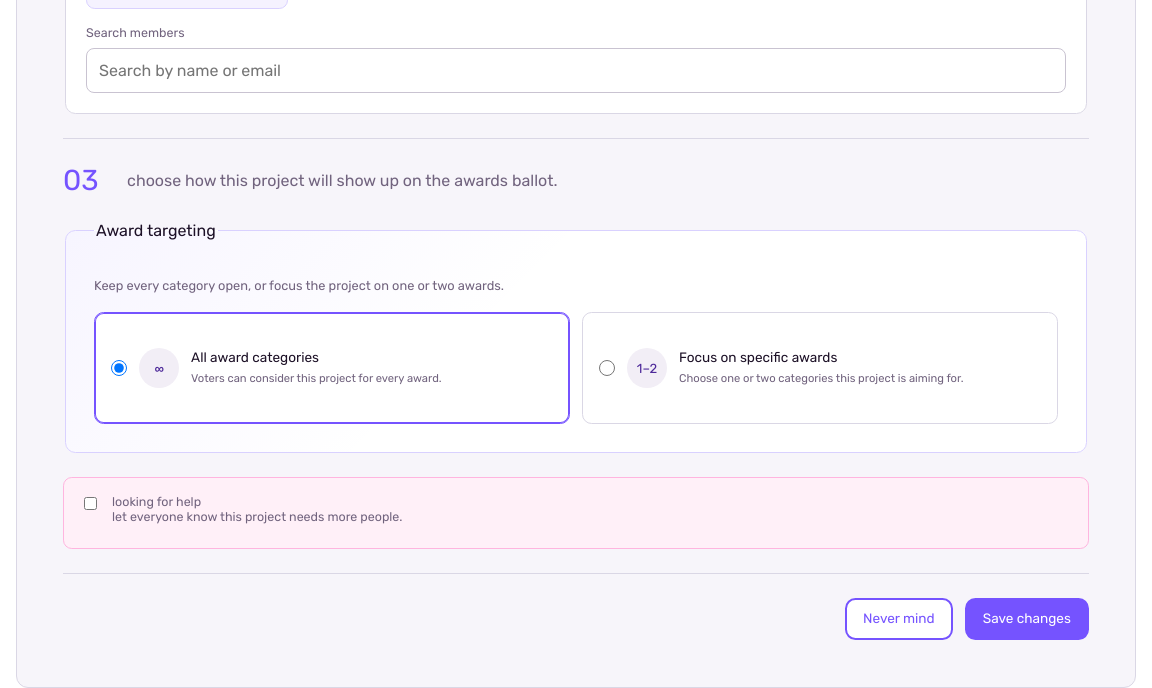
ProjectForm award targeting › allows one or two focused categories in selection order and prevents a third
(page scrolled)
Click the radio button labelled "Focus on specific awards": (607,368) [599,360,615,376]
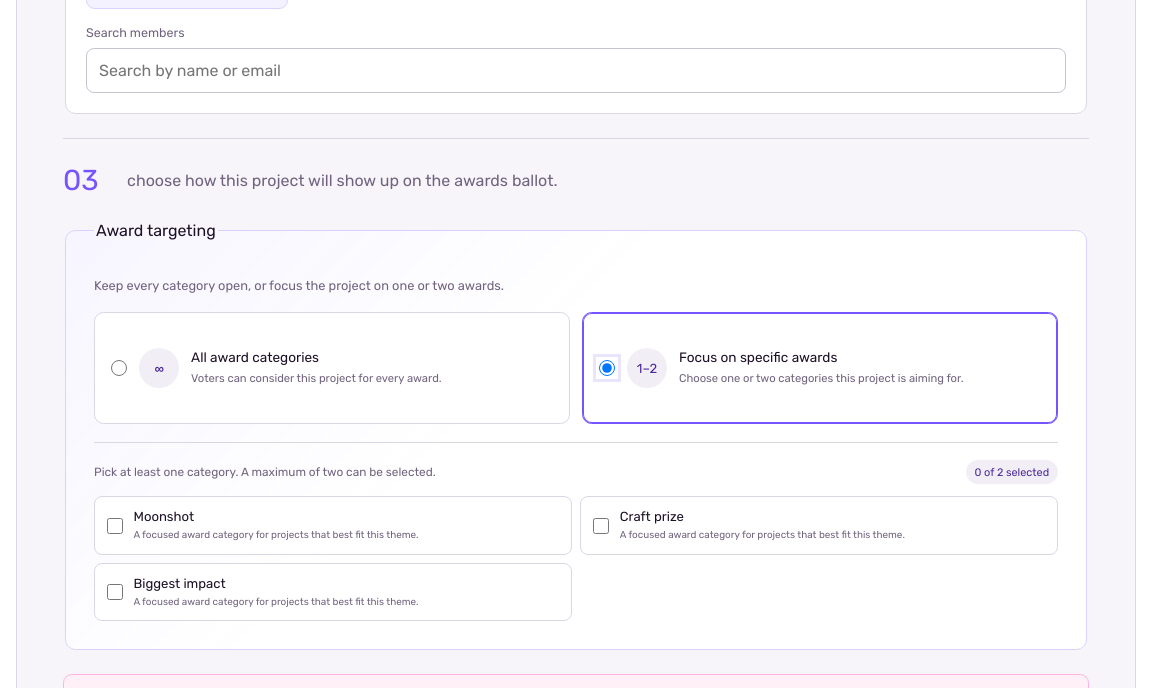
Click the checkbox labelled "Craft prize": (601,526) [593,518,609,534]
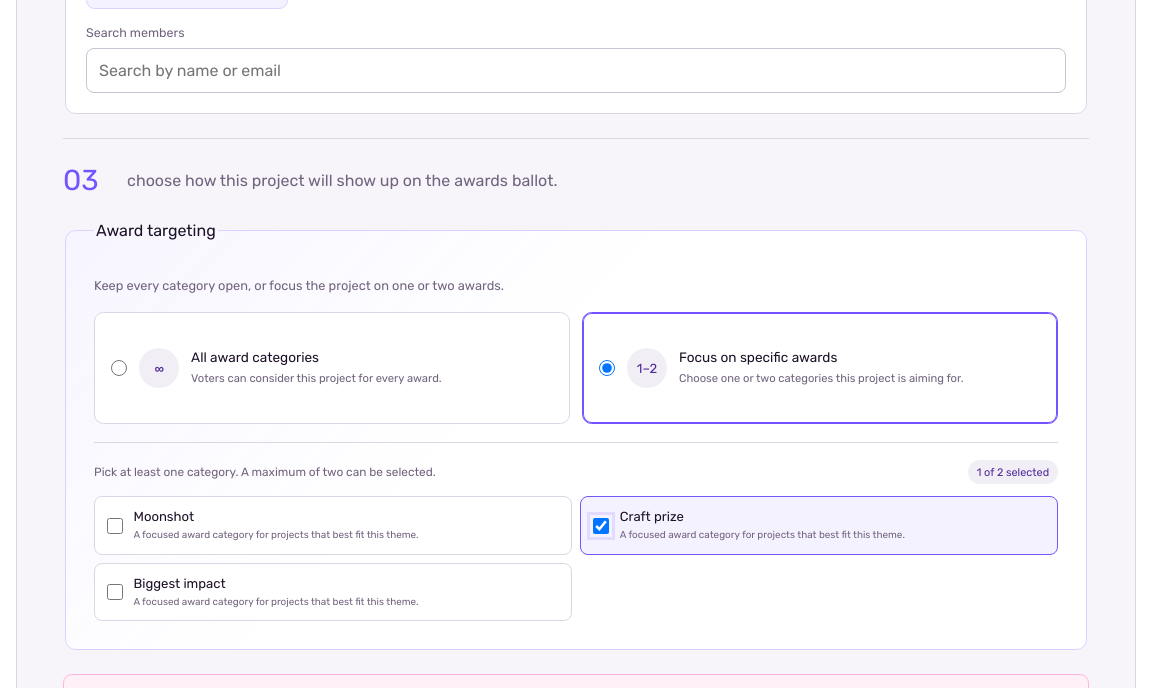
Click the checkbox labelled "Biggest impact": (115,592) [107,584,123,600]
(page scrolled)
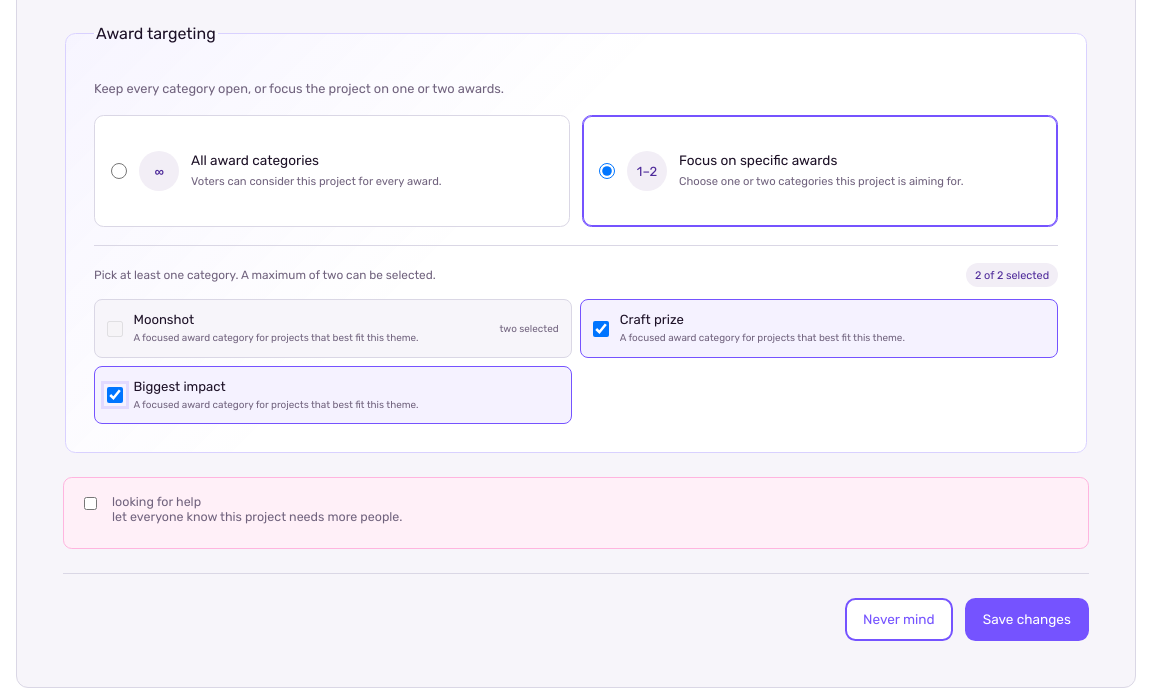
Expected: the text "2 of 2 selected" is shown, [966,263,1058,288]
Expected: the checkbox labelled "Moonshot" is disabled, [107,320,123,336]
Click the button "Save changes": (1027,620) [965,598,1089,641]
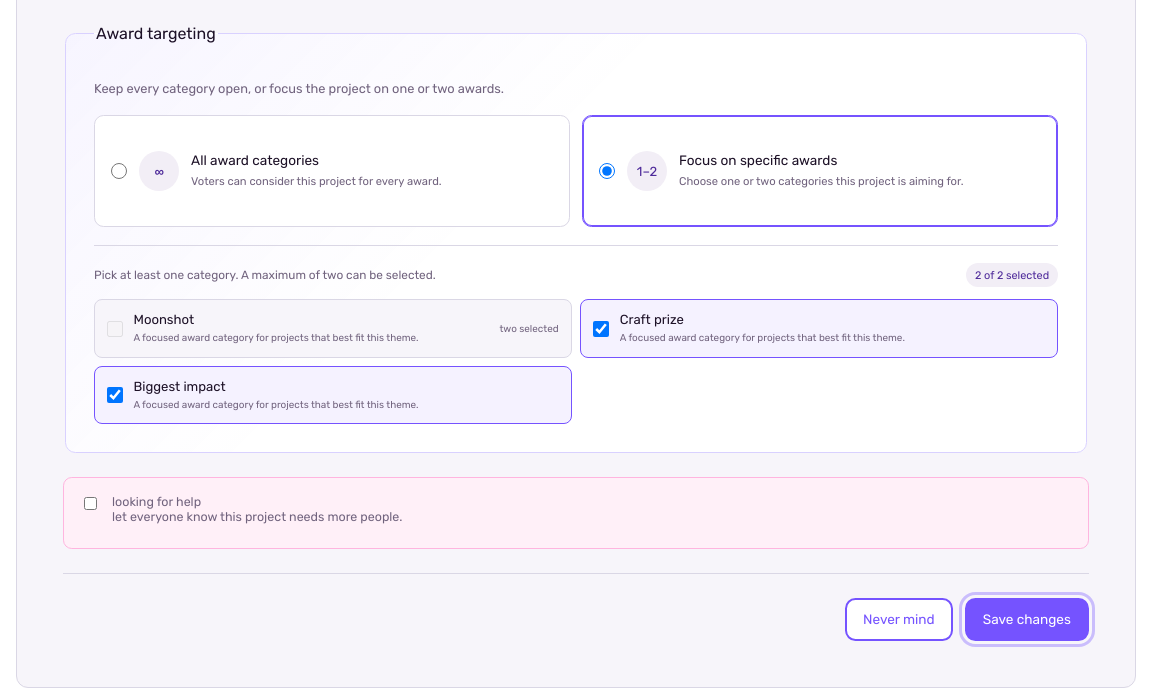
Click the checkbox labelled "Craft prize": (601,328) [593,320,609,336]
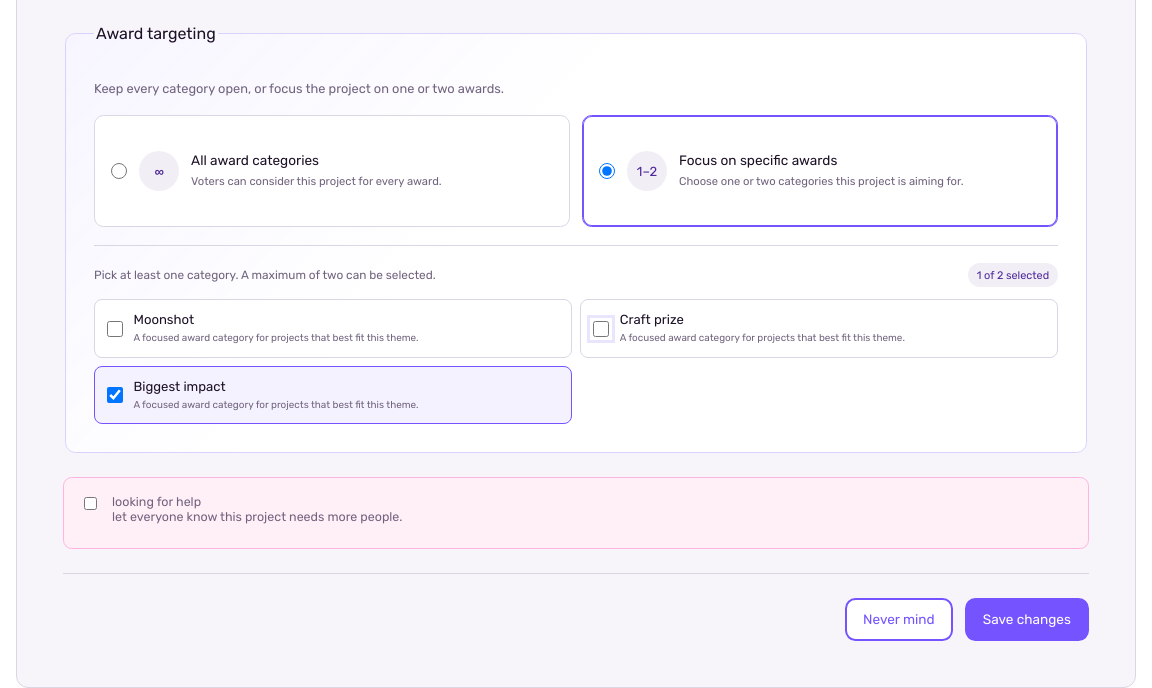
Expected: the checkbox labelled "Moonshot" is enabled, [107,320,123,336]
